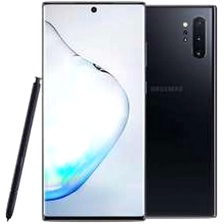phone: (37, 0, 148, 224), (110, 1, 218, 221)
